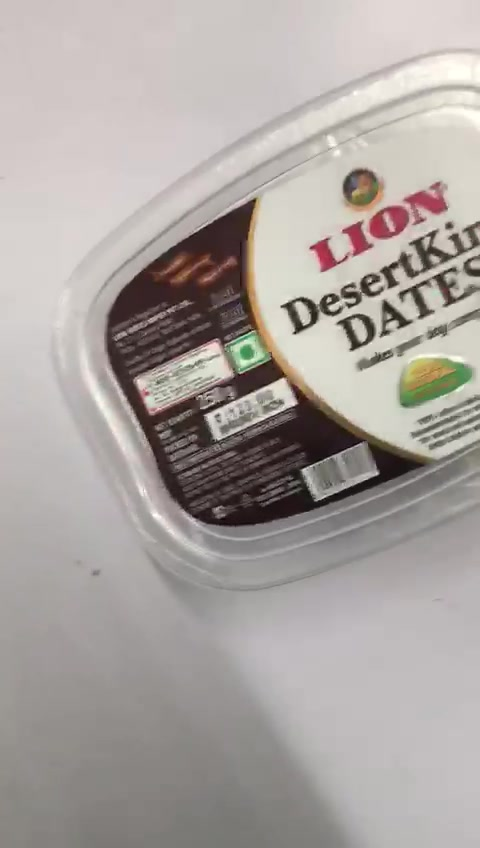Lion dates: (62, 48, 480, 595)
